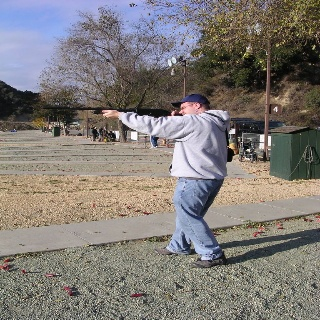shotgun: (42, 105, 184, 120)
